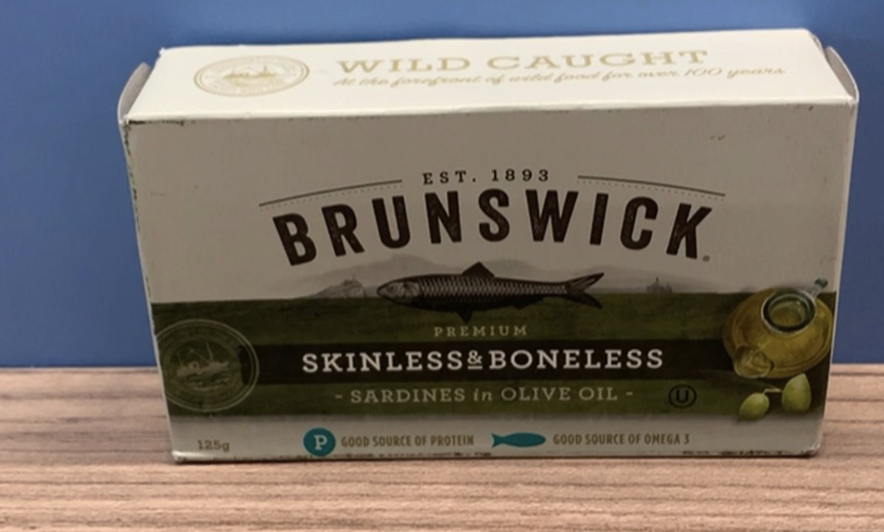sardines_150g: (158, 65, 824, 456)
